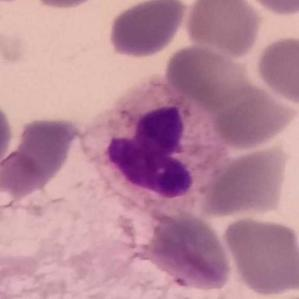Neutrophil: (73, 71, 234, 224)
RBC: (198, 141, 291, 219), (144, 212, 234, 292), (1, 115, 85, 199), (221, 212, 299, 296), (209, 78, 297, 151), (163, 42, 250, 108), (106, 0, 189, 60), (183, 0, 263, 58), (254, 33, 299, 106), (143, 274, 239, 299), (0, 95, 15, 174), (239, 0, 299, 17), (23, 0, 106, 11)
